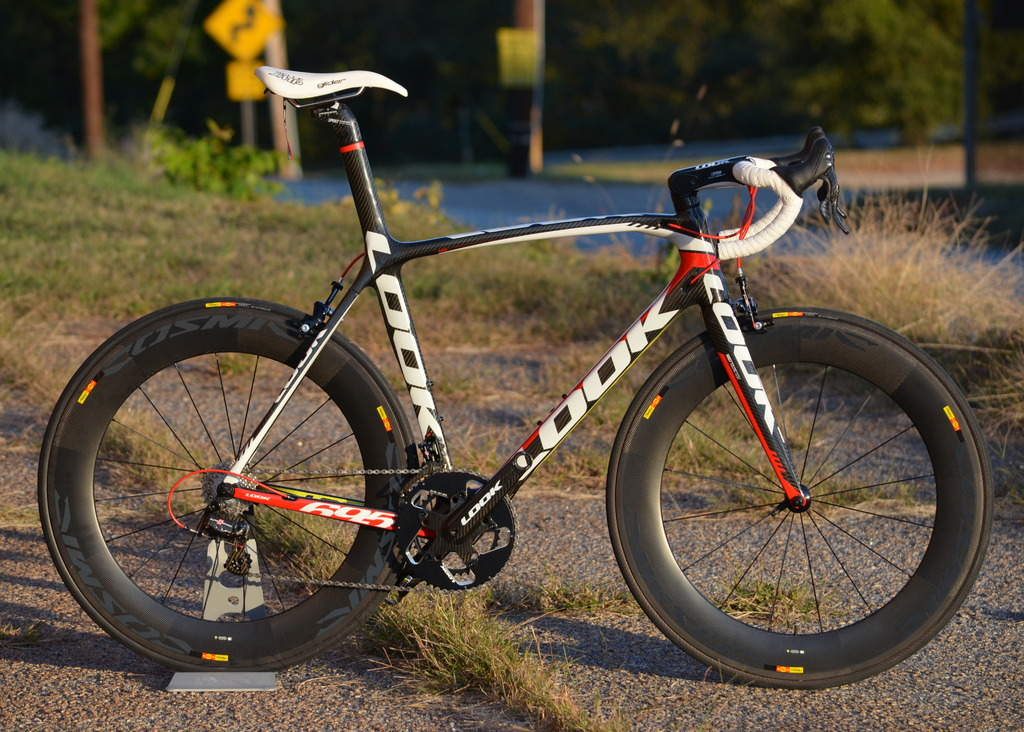Bike: (77, 44, 954, 685)
